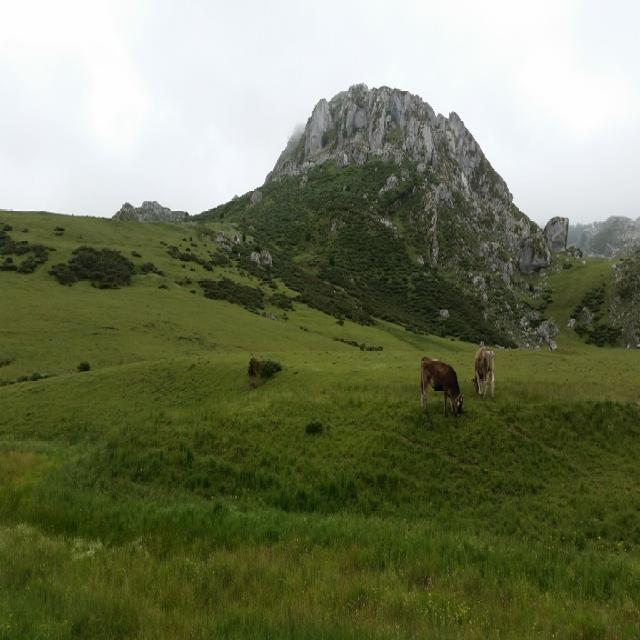Cattle: (419, 356, 465, 415), (472, 344, 495, 401)
